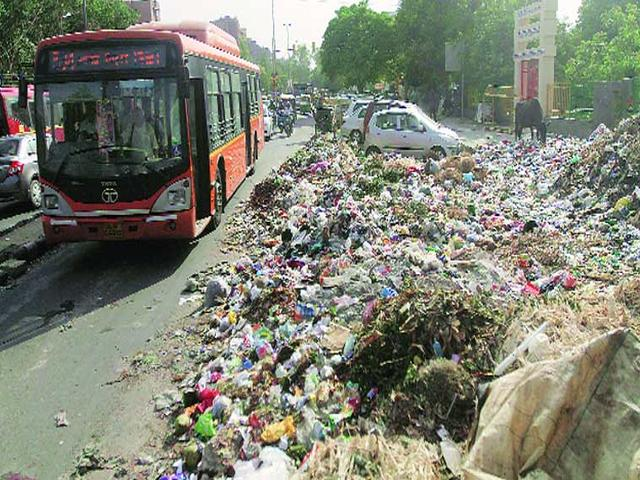garbage: (265, 169, 620, 464)
